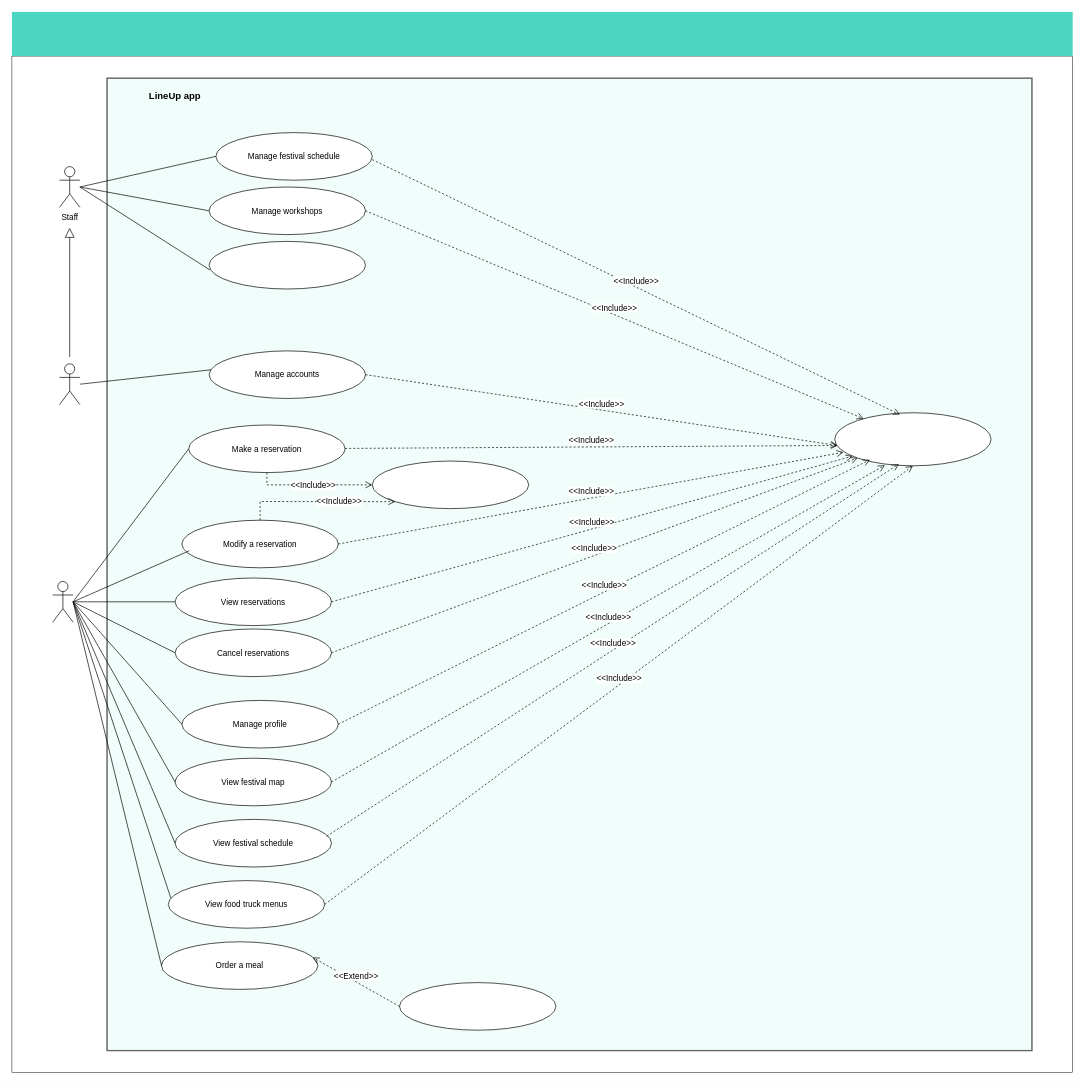
This 1085x1085 diagram has some shape labels left out. Each missing label, with the centre of its shape:
Admin: the point at 69,384
Authenticate: the point at 912,439
Check place availability: the point at 450,484
Diagramme de cas d'utilisation - V2: the point at 542,34
FestivalGoer: the point at 62,601
Manage reservations: the point at 287,265
Pay by card: the point at 477,1006
